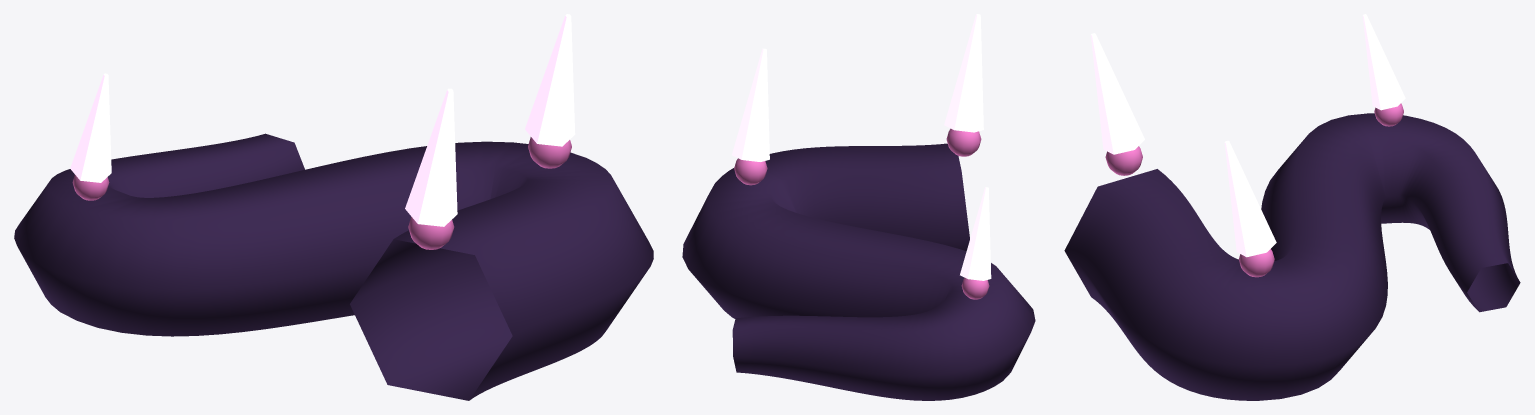
Rendered from SM_Keeper_Apep_Body.fbx.
3 views of the same model, side by side, from view 1: azimuth 30°, elevation 25°; view 2: azimuth 150°, elevation 25°; view 3: azimuth 270°, elevation 25° (orthographic). The views are drawn at different scales.
Visible parts, largest first — view 1: SM_Keeper_Apep_Body; view 2: SM_Keeper_Apep_Body; view 3: SM_Keeper_Apep_Body.
Part boxes in pixels (x1,y1,x2,y2): SM_Keeper_Apep_Body: (14,14,653,400); SM_Keeper_Apep_Body: (682,14,1035,400); SM_Keeper_Apep_Body: (1064,14,1520,400).
Size of the model in its own units: 6.89 by 4.37 by 6.54.
